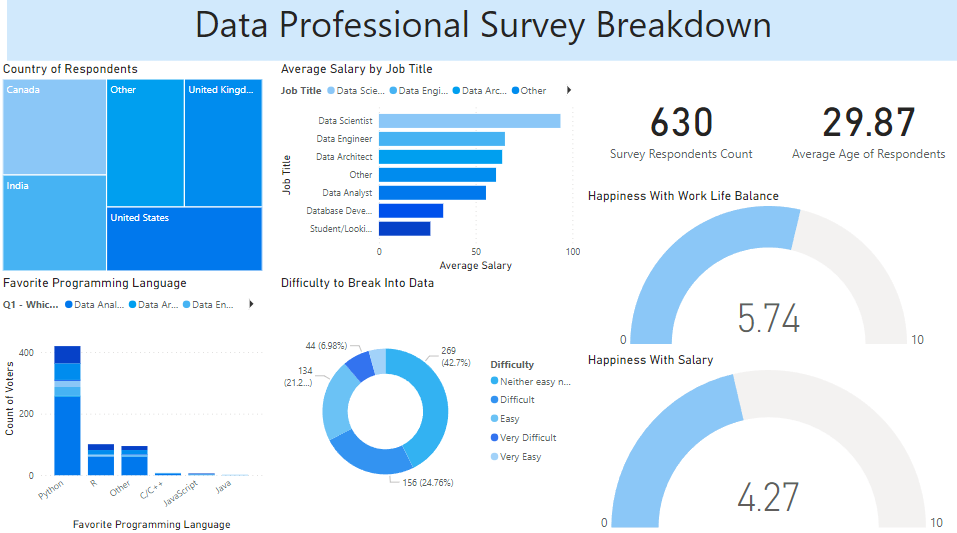

The dashboard page shown, as its layout file describes it:
{"tool":"powerbi","page":{"name":"Page 1","canvas":[1280,720],"ordinal":0},"visuals":[{"type":"textbox","box":[10.1,0,1269.9,89],"z":0},{"type":"card","fields":{"Values":["CountNonNull(Data Professional Survey.Unique ID)"]},"box":[779.4,89,258.7,169.7],"z":1},{"type":"card","fields":{"Values":["Avg(Data Professional Survey.Q10 - Current Age)"]},"box":[1038.1,89,241.9,169.7],"z":2},{"type":"barChart","title":"Average Salary by Job Title","fields":{"Category":["Data Professional Survey.Q1 - Which Title Best Fits your Current Role?.1"],"Y":["Avg(Data Professional Survey.Average Salary)"],"Series":["Data Professional Survey.Q1 - Which Title Best Fits your Current Role?.1"]},"box":[370.7,89.3,409.3,285.3],"z":3},{"type":"columnChart","title":"Favorite Programming Language","fields":{"Category":["Data Professional Survey.Q5 - Favorite Programming Language.1"],"Y":["CountNonNull(Data Professional Survey.Unique ID)"],"Series":["Data Professional Survey.Q1 - Which Title Best Fits your Current Role?.1"]},"box":[0,374.7,356,345.3],"z":4},{"type":"treemap","title":"Country of Respondents","fields":{"Group":["Data Professional Survey.Q11 - Which Country do you live in?.1"],"Values":["Count(Data Professional Survey.Q11 - Which Country do you live in?.1)"]},"box":[0,89.3,356,285.3],"z":5},{"type":"gauge","title":"Happiness With Salary","fields":{"Y":["Avg(Data Professional Survey.Q6 - How Happy are you in your Current Position with the following? (Salary))"],"MinValue":["Min(Data Professional Survey.Q6 - How Happy are you in your Current Position with the following? (Salary))"],"MaxValue":["Max(Data Professional Survey.Q6 - How Happy are you in your Current Position with the following? (Salary))"]},"box":[779.4,477.1,500.6,243.6],"z":6},{"type":"gauge","title":"Happiness With Work Life Balance","fields":{"Y":["Avg(Data Professional Survey.Q6 - How Happy are you in your Current Position with the following? (Work/Life Balance))"],"MinValue":["Min(Data Professional Survey.Q6 - How Happy are you in your Current Position with the following? (Work/Life Balance))"],"MaxValue":["Max(Data Professional Survey.Q6 - How Happy are you in your Current Position with the following? (Work/Life Balance))"]},"box":[779.4,258.7,500.6,218.4],"z":7},{"type":"donutChart","title":"Difficulty to Break Into Data","fields":{"Y":["CountNonNull(Data Professional Survey.Q7 - How difficult was it for you to break into Data?)"],"Category":["Data Professional Survey.Q7 - How difficult was it for you to break into Data?"]},"box":[370.7,374.7,409.3,345.3],"z":8}]}

Visuals, with their boxes in screenshot pixels (x1, y1, x2, y2), scaled from the page's 1280x720 canvas onto the 957x533 screenshot:
textbox: select_region(8, 0, 956, 66)
card - CountNonNull(Data Professional Survey.Unique ID): select_region(583, 66, 776, 192)
card - Avg(Data Professional Survey.Q10 - Current Age): select_region(776, 66, 956, 192)
"Average Salary by Job Title" barChart: select_region(277, 66, 583, 277)
"Favorite Programming Language" columnChart: select_region(0, 277, 266, 532)
"Country of Respondents" treemap: select_region(0, 66, 266, 277)
"Happiness With Salary" gauge: select_region(583, 353, 956, 532)
"Happiness With Work Life Balance" gauge: select_region(583, 192, 956, 353)
"Difficulty to Break Into Data" donutChart: select_region(277, 277, 583, 532)
